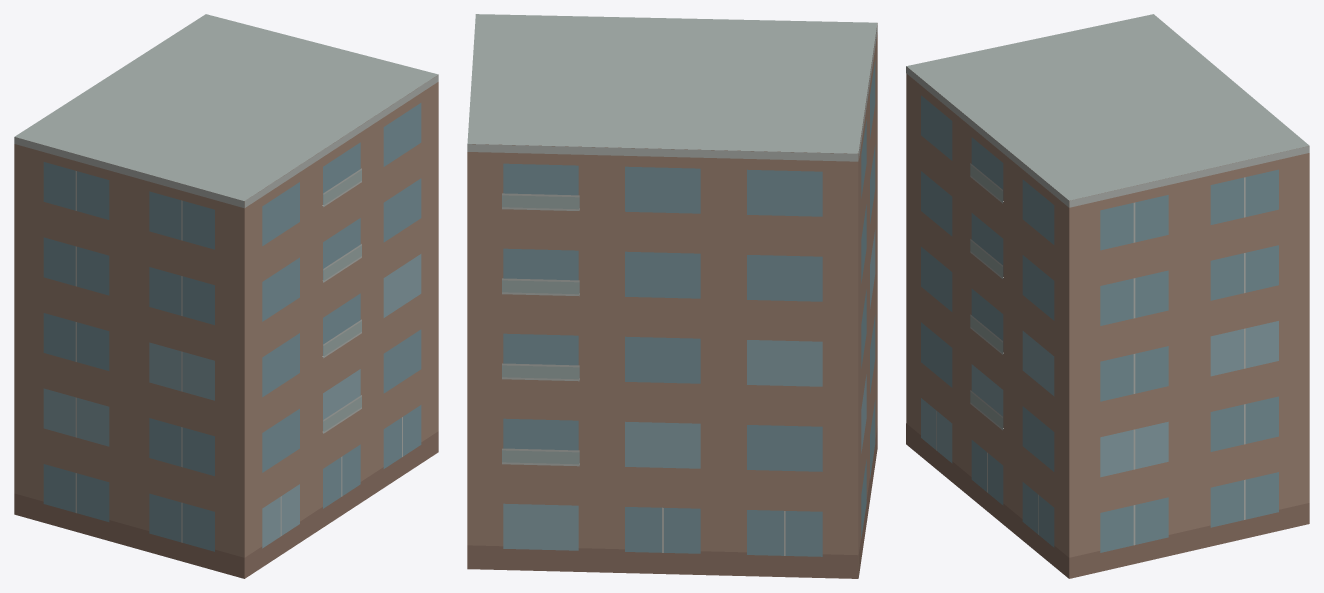
Rendered from survey-upis-32840252.glb.
3 renders of one model, left to right at view 1: azimuth 30°, elevation 25°; view 2: azimuth 150°, elevation 25°; view 3: azimuth 270°, elevation 25°, orthographic. The views are drawn at different scales.
Parts seen in each view (by area): view 1: survey-upis-32840252.tmp; view 2: survey-upis-32840252.tmp; view 3: survey-upis-32840252.tmp.
Boxes of the visible parts, x1,y1,x2,y2 form: survey-upis-32840252.tmp: (14,14,438,578); survey-upis-32840252.tmp: (467,14,877,578); survey-upis-32840252.tmp: (906,14,1309,578).
Size of the model in its own units: 13.77 by 13 by 12.58.
